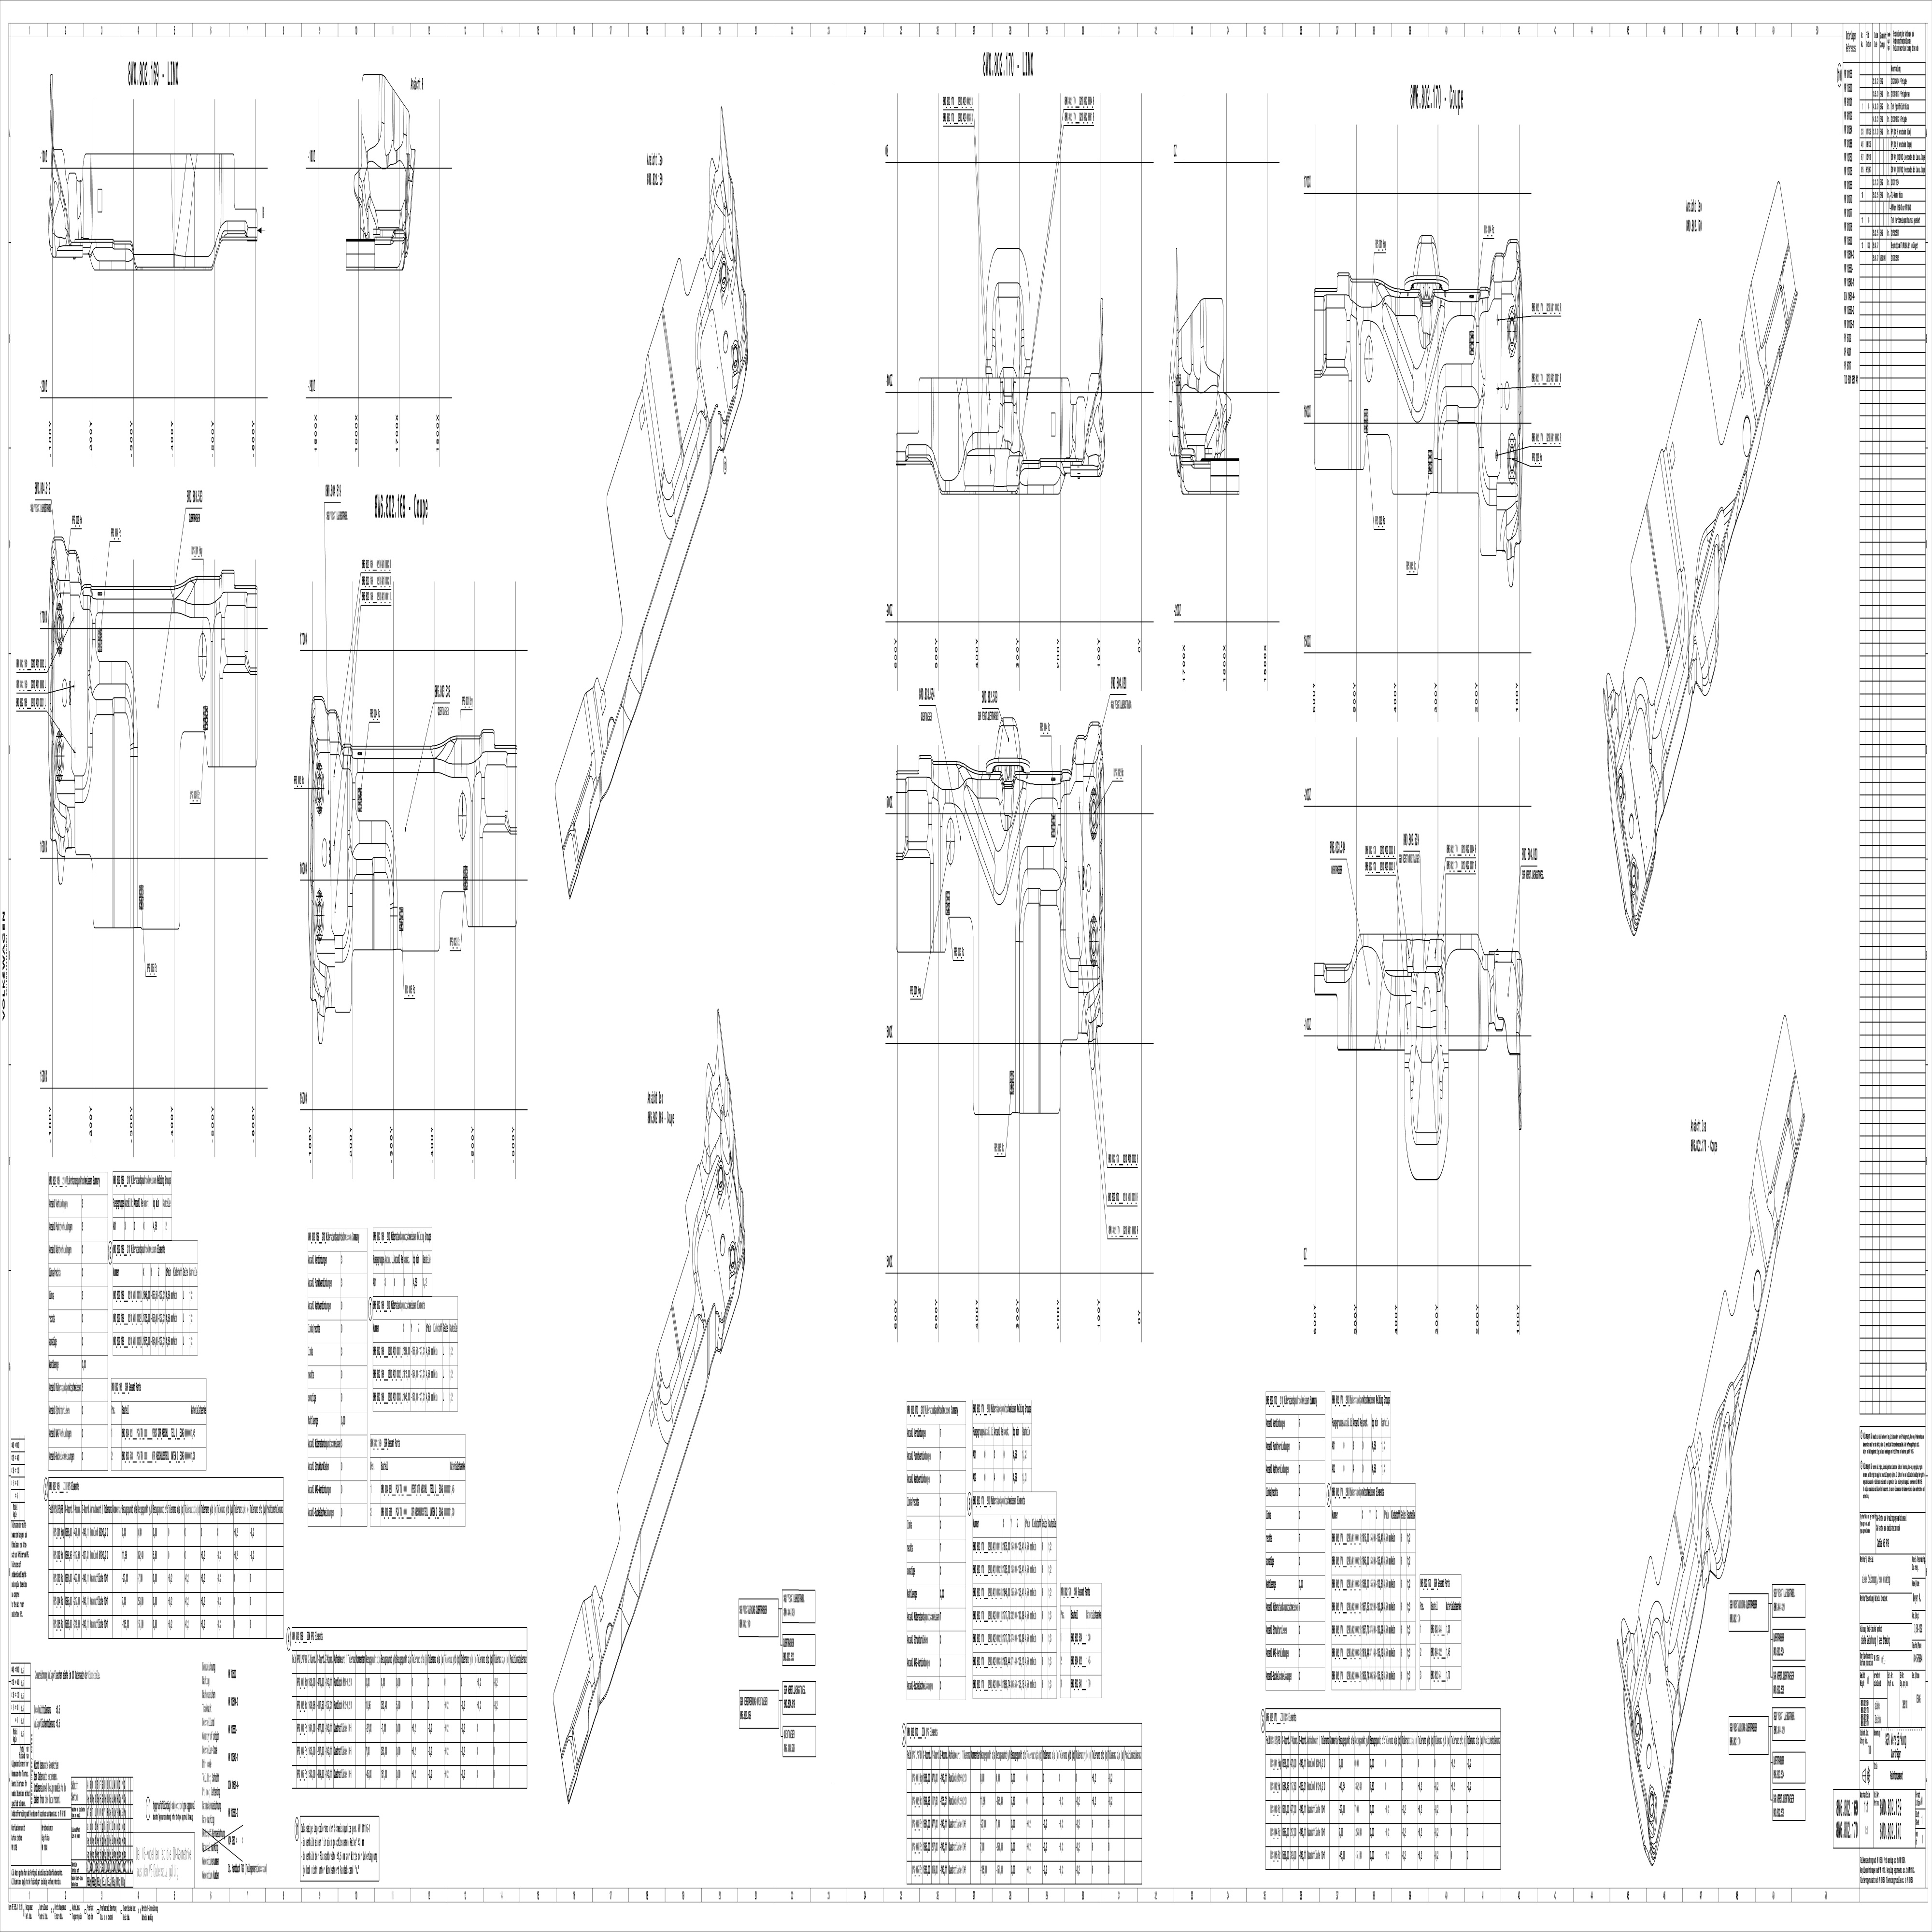InnerContour: (193, 632, 211, 679), (1362, 334, 1376, 384), (455, 791, 469, 840), (945, 817, 959, 865), (1083, 862, 1093, 892)
ThroughHole: (1086, 786, 1102, 840), (1504, 304, 1518, 357), (1504, 432, 1518, 485), (1614, 766, 1629, 810), (1628, 855, 1642, 897), (1088, 916, 1099, 968), (315, 888, 326, 939), (53, 607, 65, 648), (1633, 1704, 1645, 1744), (729, 338, 743, 373), (55, 729, 64, 780), (718, 257, 731, 292), (715, 1162, 727, 1196), (313, 768, 324, 807), (1647, 1783, 1658, 1822), (727, 1240, 736, 1274)
